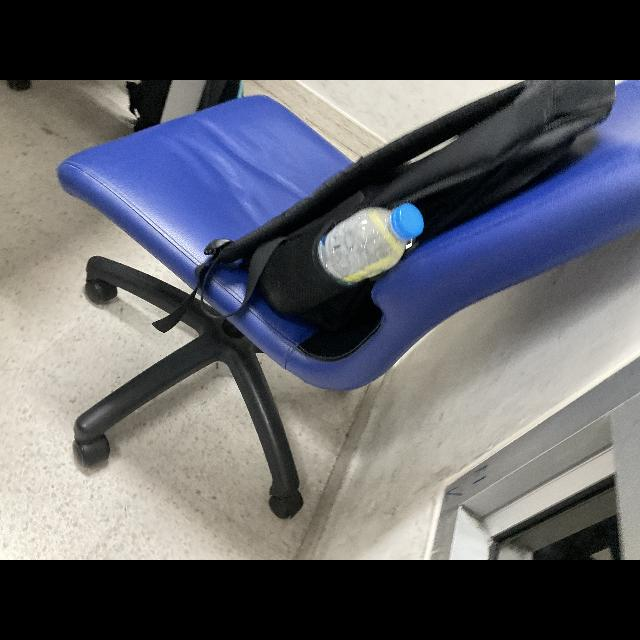plastic_bottle: (314, 204, 430, 290)
plastic_bottle_cap: (392, 204, 424, 242)
straw: (341, 212, 407, 282)
